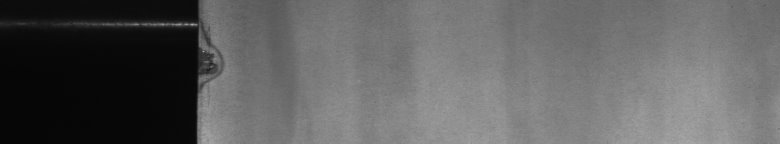hb: (208, 25, 230, 88)
